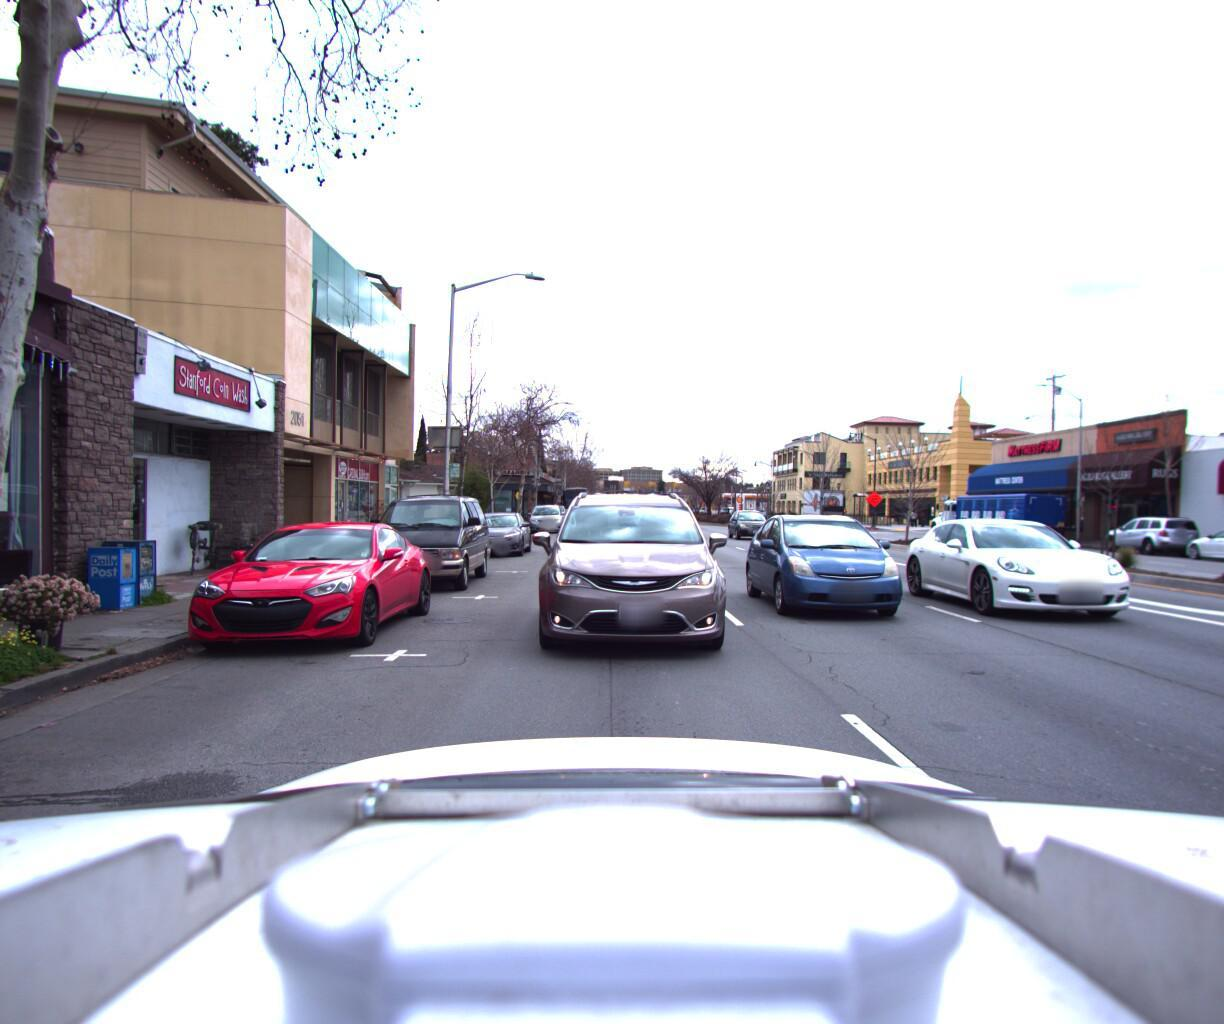bus: (559, 482, 591, 520)
car: (168, 505, 451, 666), (517, 469, 731, 674), (919, 511, 1223, 645), (753, 506, 970, 650), (356, 477, 503, 595), (1097, 510, 1210, 551), (464, 500, 537, 557), (1180, 517, 1224, 561), (939, 511, 1005, 540), (729, 505, 778, 540), (528, 495, 567, 530)
truck: (927, 492, 1072, 541)
